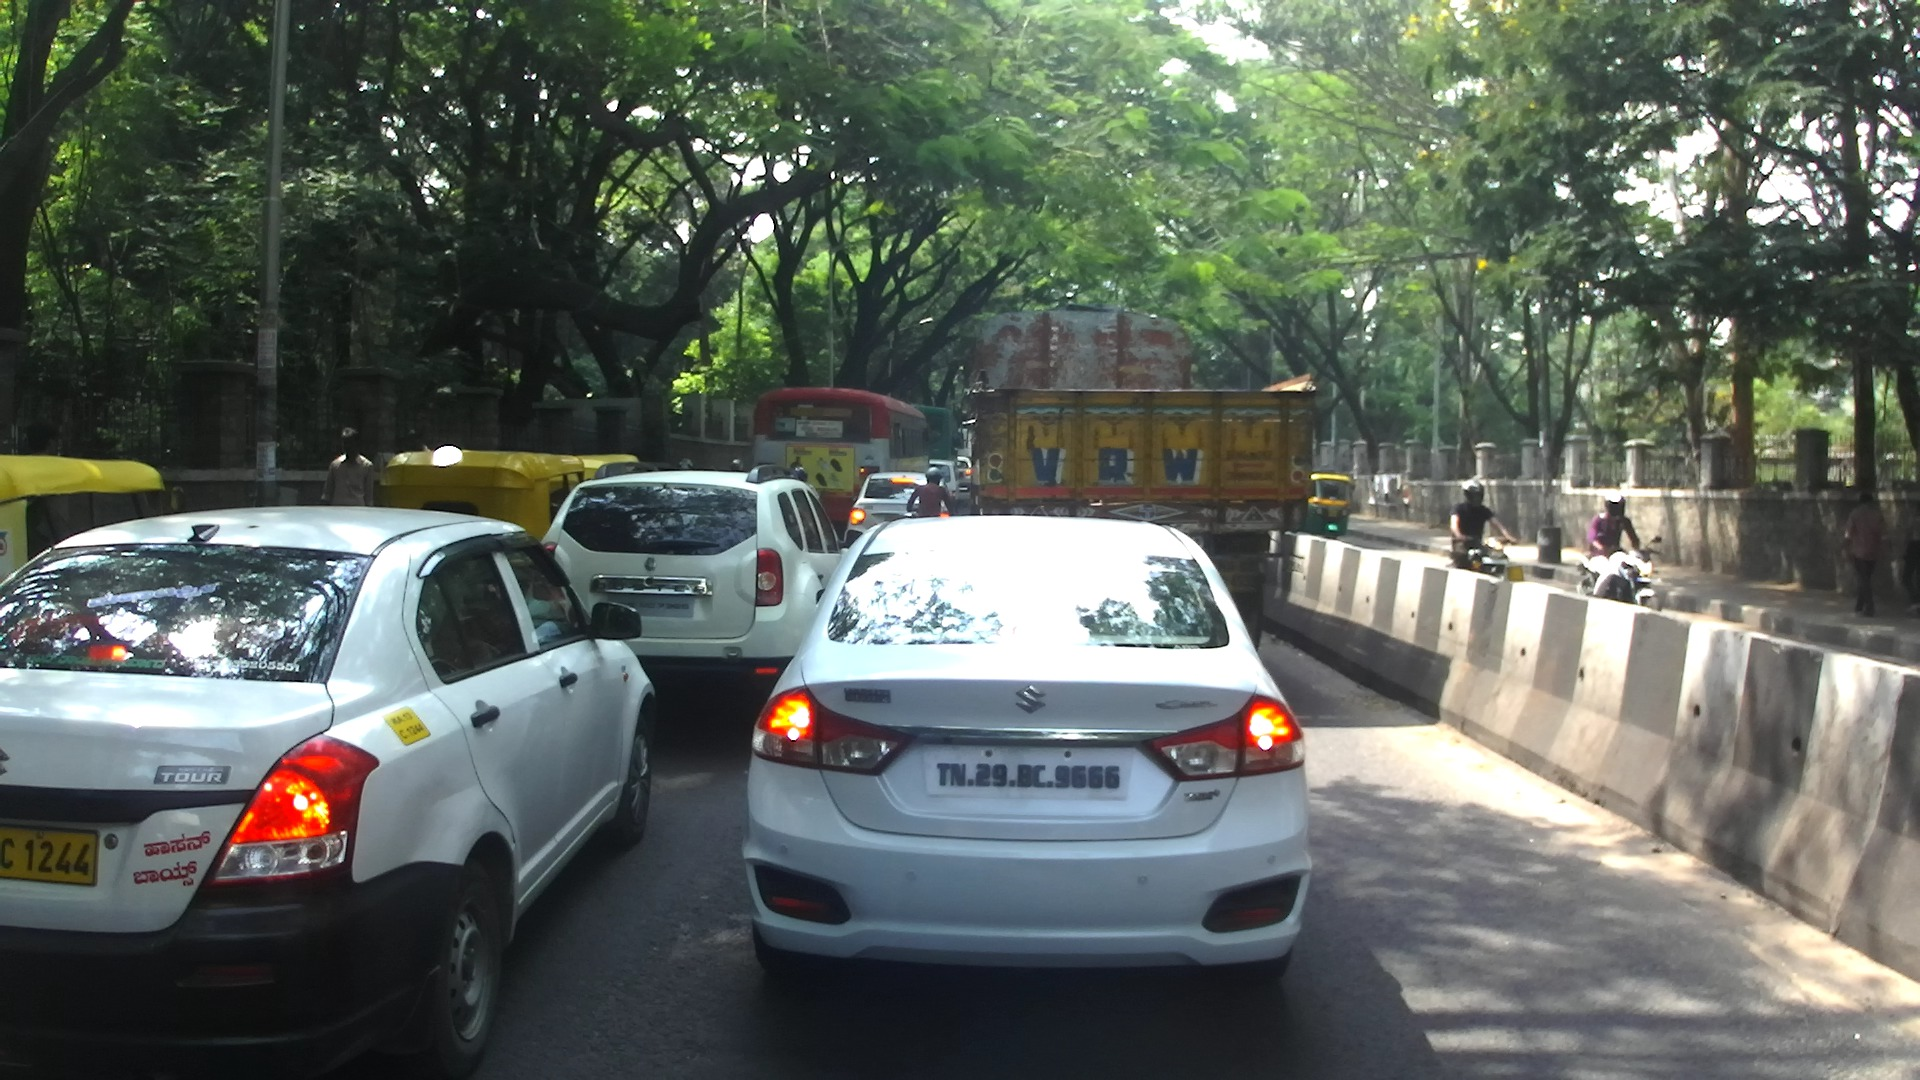autorickshaw: (1, 455, 185, 600), (380, 448, 587, 546), (1296, 469, 1355, 543), (559, 453, 644, 490)
bus: (751, 388, 934, 536), (901, 400, 957, 498)
car: (1, 508, 656, 1080), (740, 516, 1316, 1007), (543, 460, 863, 739), (843, 470, 940, 553), (923, 459, 960, 515), (949, 454, 973, 490)
motorcycle: (1573, 535, 1668, 607), (1443, 535, 1519, 585), (905, 506, 955, 521)
person: (1845, 485, 1886, 620), (318, 423, 378, 512), (396, 428, 436, 462)
rider: (1583, 491, 1640, 598), (1452, 477, 1509, 572), (908, 464, 953, 517), (787, 462, 807, 482), (672, 455, 694, 472), (724, 457, 744, 473)
truck: (962, 307, 1316, 659)
